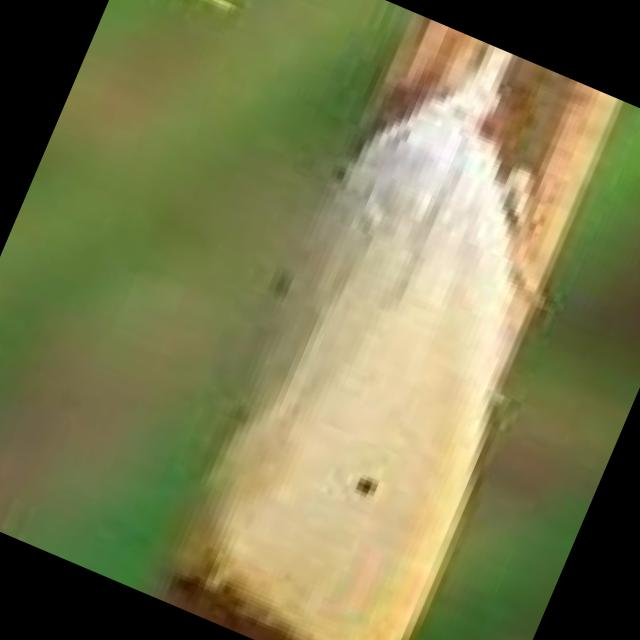stem-borer: (142, 3, 640, 640)
